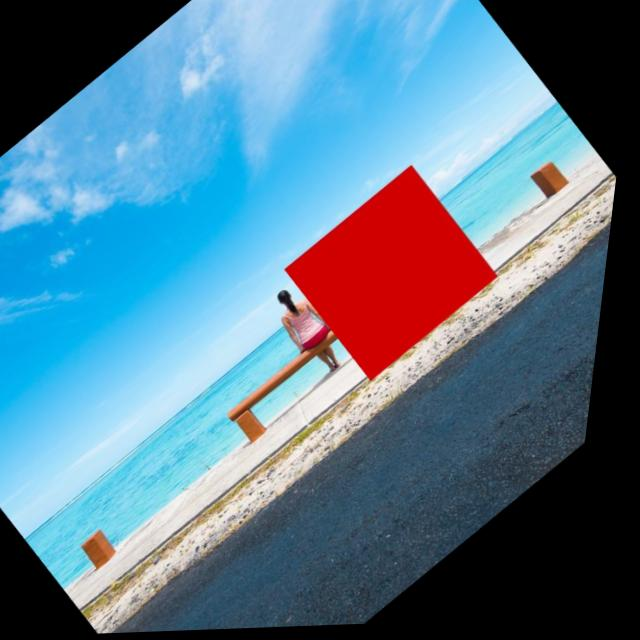RedSquare: (268, 153, 526, 396)
